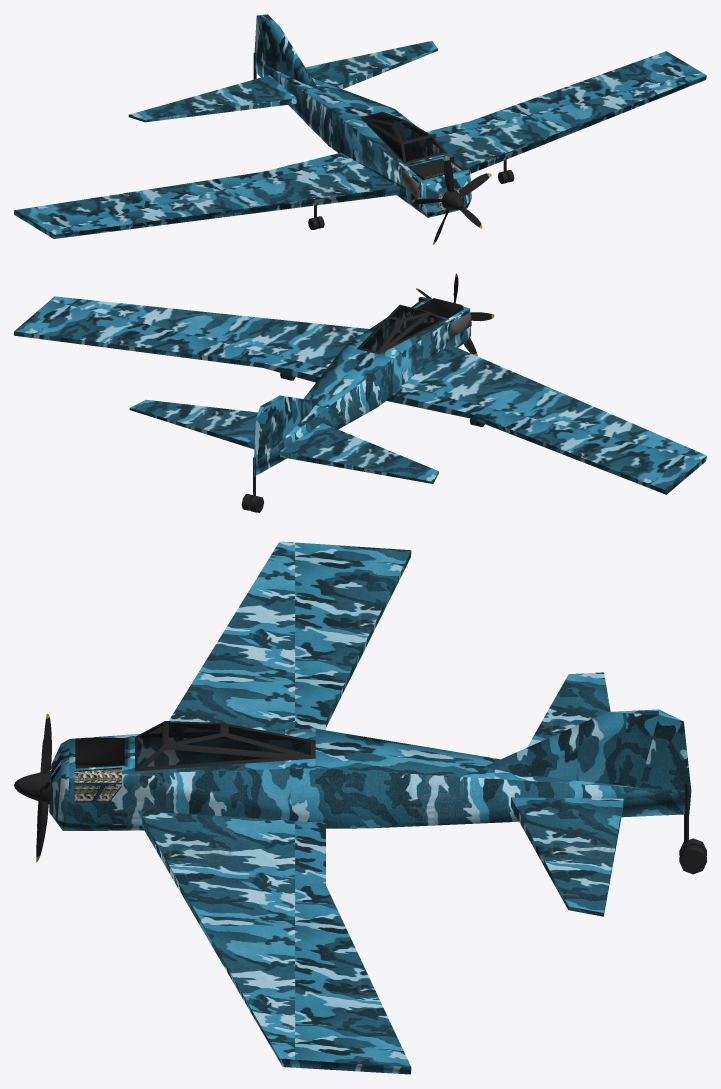
File: avioneta.obj
3 renders of one model, top to bottom at view 1: azimuth 30°, elevation 25°; view 2: azimuth 150°, elevation 25°; view 3: azimuth 270°, elevation 25°, orthographic. The views are drawn at different scales.
Visible parts, largest first — view 1: Mesh17 Model, Mesh16 Model, Mesh18 Model, Mesh19 Model, Mesh20 Model; view 2: Mesh17 Model, Mesh18 Model, Mesh16 Model, Mesh19 Model, Mesh20 Model; view 3: Mesh16 Model, Mesh18 Model, Mesh17 Model, Mesh20 Model, Mesh19 Model, Mesh1 nosecap1 Group1 Model.
Boxes of the visible parts, x1=… form: Mesh17 Model: x1=14, y1=152, x2=399, y2=238; Mesh16 Model: x1=254, y1=14, x2=471, y2=217; Mesh18 Model: x1=389, y1=51, x2=706, y2=173; Mesh19 Model: x1=128, y1=75, x2=296, y2=122; Mesh20 Model: x1=305, y1=41, x2=437, y2=89; Mesh17 Model: x1=387, y1=344, x2=706, y2=494; Mesh18 Model: x1=14, y1=296, x2=404, y2=382; Mesh16 Model: x1=253, y1=297, x2=471, y2=476; Mesh19 Model: x1=279, y1=423, x2=438, y2=483; Mesh20 Model: x1=129, y1=399, x2=257, y2=449; Mesh16 Model: x1=49, y1=709, x2=691, y2=830; Mesh18 Model: x1=138, y1=810, x2=411, y2=1074; Mesh17 Model: x1=169, y1=541, x2=411, y2=730; Mesh20 Model: x1=511, y1=797, x2=623, y2=916; Mesh19 Model: x1=527, y1=672, x2=610, y2=747; Mesh1 nosecap1 Group1 Model: x1=14, y1=771, x2=51, y2=803.
Size of the model in its own units: 38.24 by 5.4 by 21.66.
10 materials, 8 textured.
